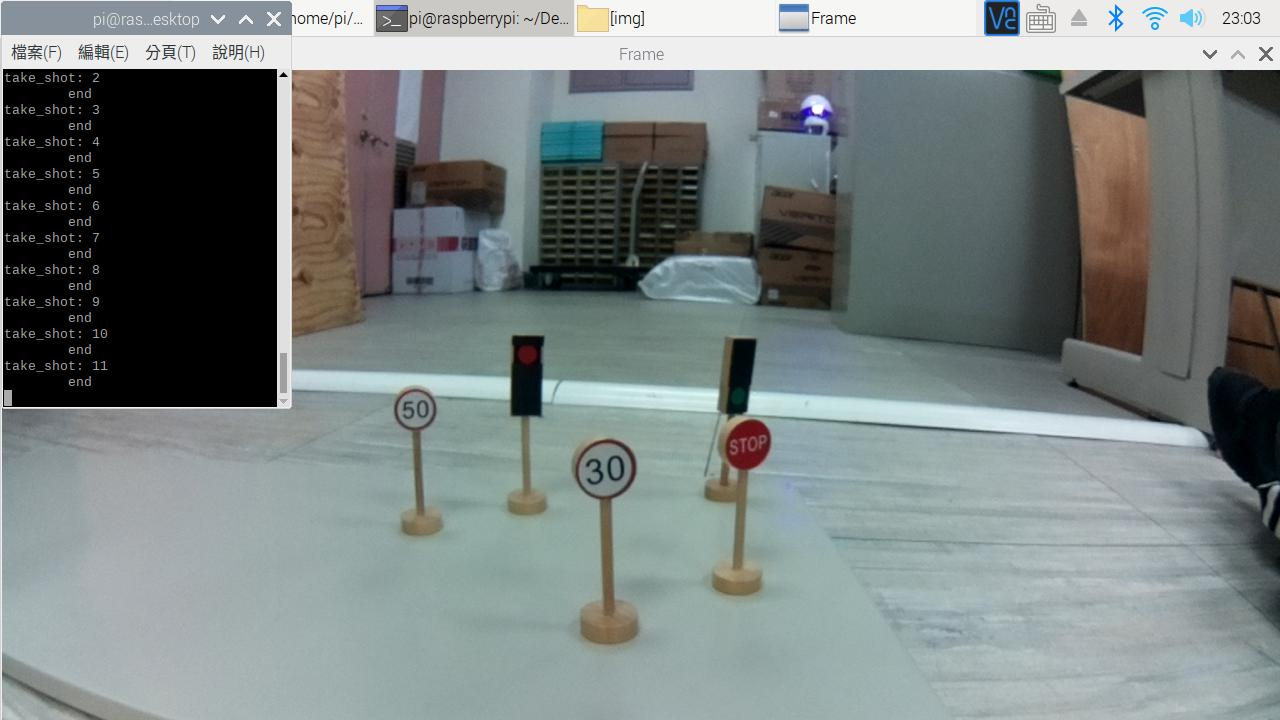Green: (728, 330, 751, 417)
Red: (512, 335, 544, 422)
Speed30: (567, 433, 640, 501)
Speed50: (388, 385, 440, 427)
Stop: (718, 418, 775, 469)
